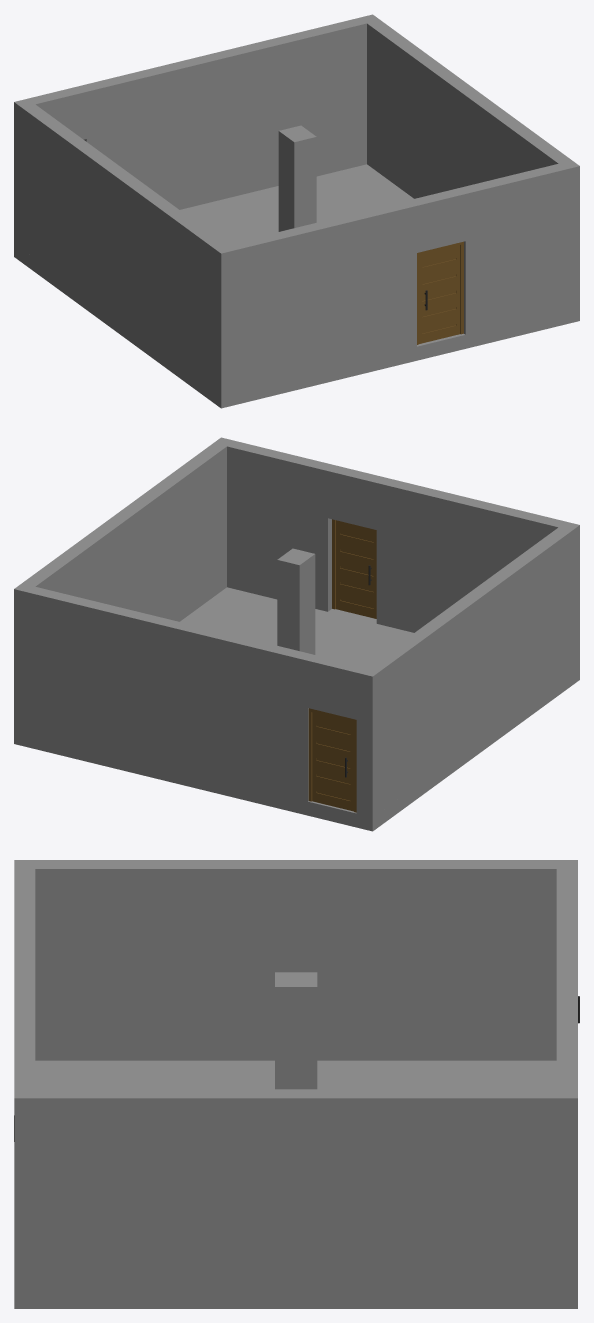
Rendered from MSH_Room_Quad.fbx.
The picture shows the model from 3 angles, top to bottom: view 1: azimuth 30°, elevation 25°; view 2: azimuth 150°, elevation 25°; view 3: azimuth 270°, elevation 25°; orthographic projection. The views are drawn at different scales.
Visible parts, largest first — view 1: MSH_Room_Quad, MSH_Door_Single014, MSH_DoorFrame_Single014; view 2: MSH_Room_Quad, MSH_Door_Single005, MSH_Door_Single014, MSH_DoorFrame_Single005; view 3: MSH_Room_Quad.
Boxes of the visible parts, x1=… form: MSH_Room_Quad: x1=14, y1=14, x2=579, y2=408; MSH_Door_Single014: x1=418, y1=245, x2=460, y2=344; MSH_DoorFrame_Single014: x1=417, y1=241, x2=463, y2=344; MSH_Room_Quad: x1=14, y1=437, x2=579, y2=831; MSH_Door_Single005: x1=312, y1=712, x2=353, y2=811; MSH_Door_Single014: x1=336, y1=520, x2=376, y2=618; MSH_DoorFrame_Single005: x1=308, y1=708, x2=356, y2=812; MSH_Room_Quad: x1=14, y1=860, x2=577, y2=1308.
Bounding box in the file's own units: 315 × 130 × 316.
